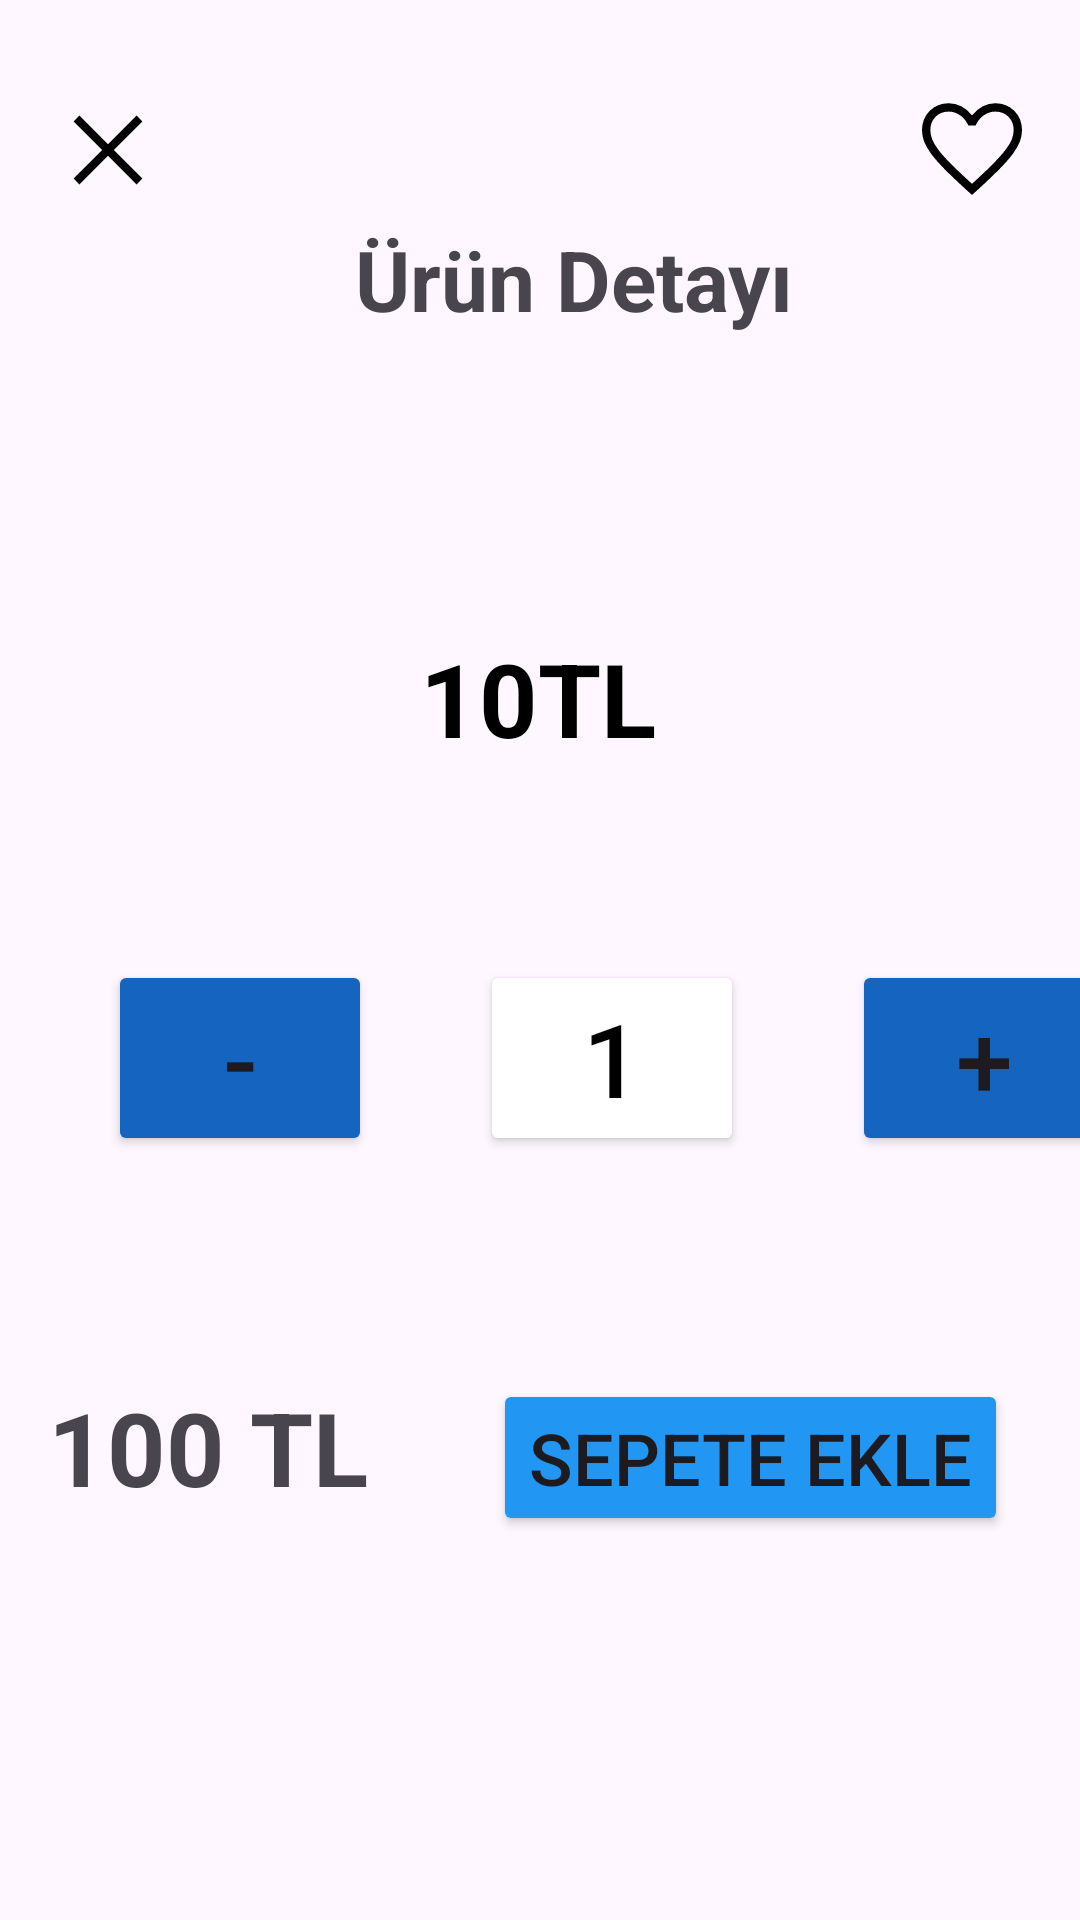

Named icons in this screenshot (1080*1920) and their centers, (x=x, y=y):
close: (x=108, y=150)
favorite: (x=972, y=149)
